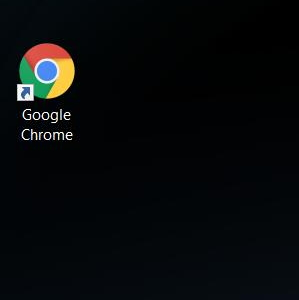chrome: (16, 43, 74, 101)
